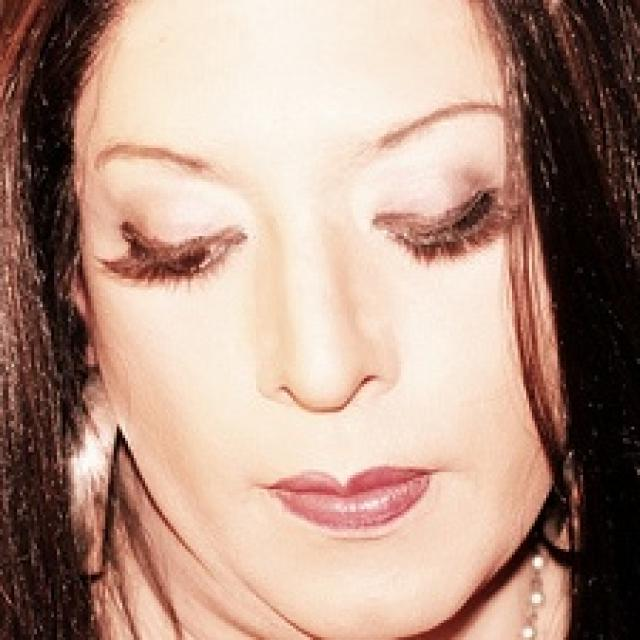Eyeclosed: (110, 214, 244, 292), (382, 182, 498, 268)
